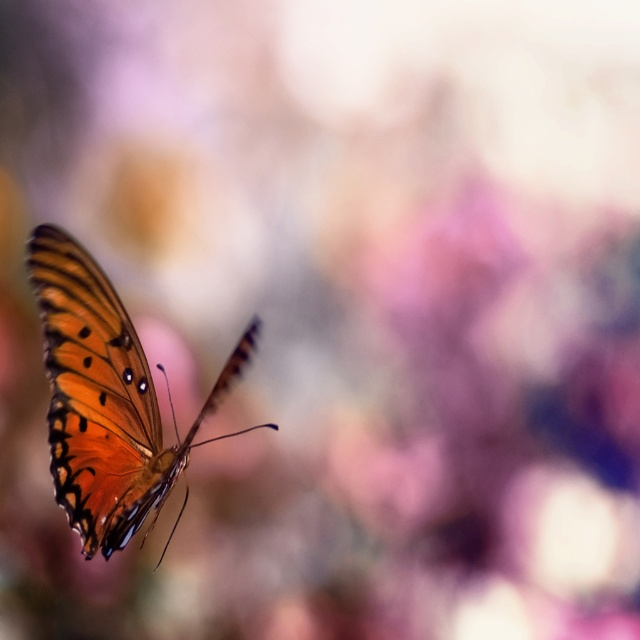Butterfly: (24, 220, 278, 576)
